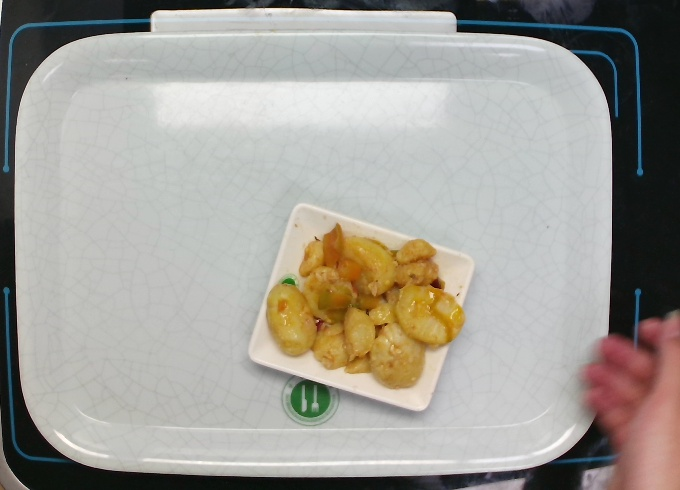WCQzf-Bai_Se_Si_Fang_Die: (240, 193, 476, 416)
